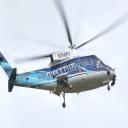helicopter: (2, 2, 118, 111)
